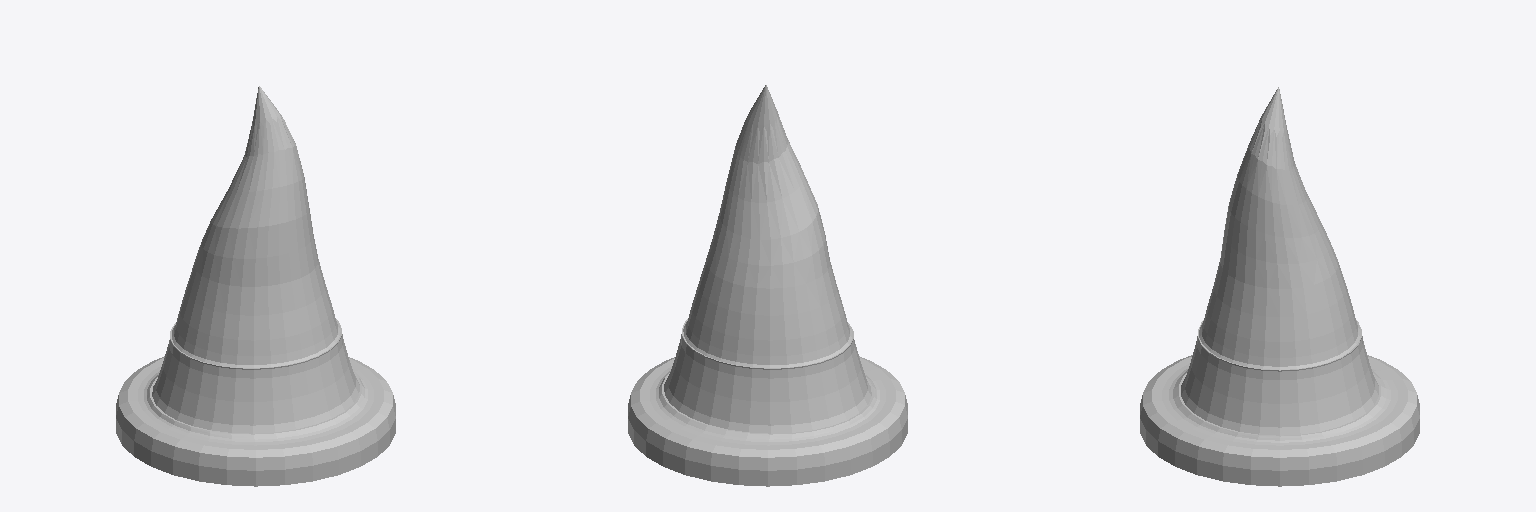
Rendered from sombrero.obj.
3 renders of one model, left to right at view 1: azimuth 30°, elevation 25°; view 2: azimuth 150°, elevation 25°; view 3: azimuth 270°, elevation 25°, orthographic.
Parts seen in each view (by area): view 1: pCone1; view 2: pCone1; view 3: pCone1.
Boxes of the visible parts, x1,y1,x2,y2 form: pCone1: [116, 86, 395, 486]; pCone1: [628, 85, 907, 486]; pCone1: [1140, 87, 1419, 486].
Size of the model in its own units: 6.91 by 9.26 by 6.87.